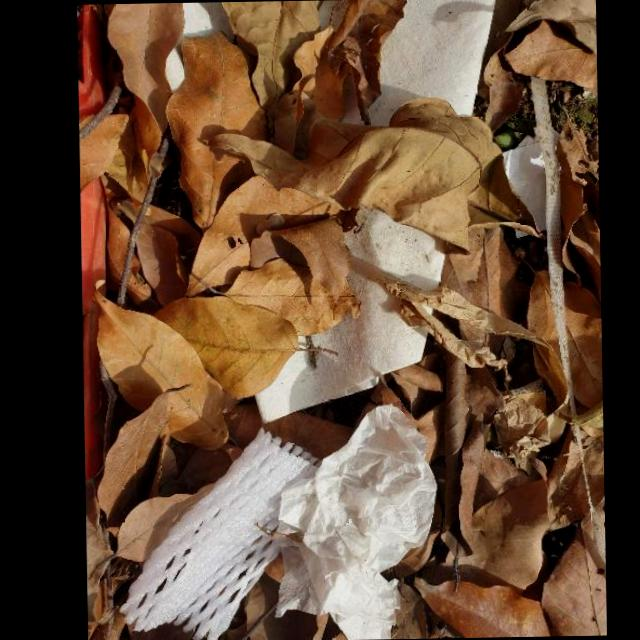la_cay: (207, 124, 481, 255), (87, 100, 207, 310), (271, 0, 407, 167), (94, 287, 232, 451), (349, 255, 542, 367), (439, 419, 555, 590), (445, 358, 569, 516), (185, 172, 344, 291), (170, 32, 260, 235), (224, 217, 361, 335), (96, 383, 208, 520), (154, 295, 298, 399), (526, 273, 603, 410), (225, 0, 324, 106), (107, 2, 185, 133), (440, 224, 531, 332), (357, 364, 447, 463), (541, 503, 606, 636), (502, 0, 597, 88), (112, 482, 212, 563), (224, 403, 353, 464), (385, 97, 500, 165), (417, 581, 550, 638), (246, 549, 325, 640), (550, 398, 604, 527), (462, 152, 541, 239), (559, 112, 600, 279), (503, 19, 597, 88), (88, 517, 128, 640), (484, 50, 525, 131)
